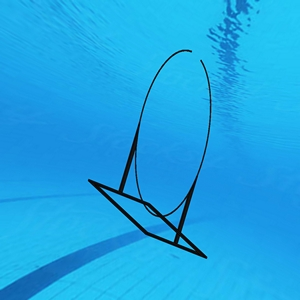circle: (87, 45, 216, 265)
